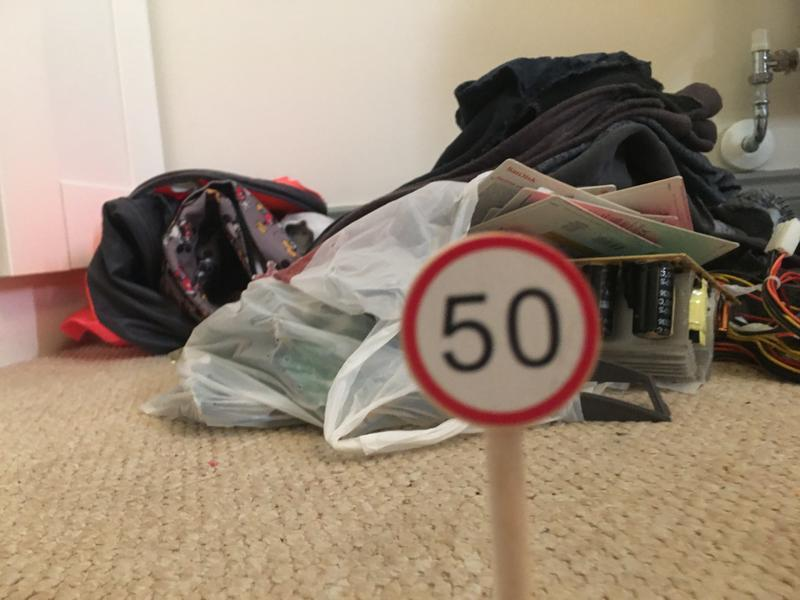Traffic_Sign_50: (402, 235, 602, 429)
